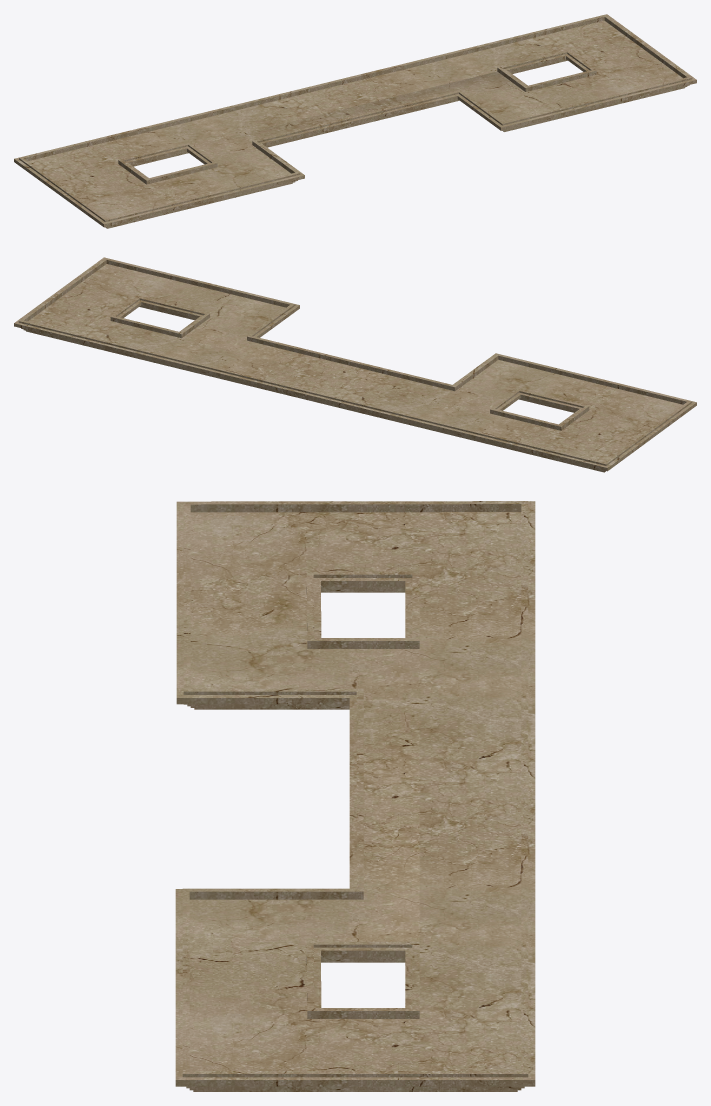
Rendered from pasted__stone_column_513.fbx.
The picture shows the model from 3 angles, top to bottom: view 1: azimuth 30°, elevation 25°; view 2: azimuth 150°, elevation 25°; view 3: azimuth 270°, elevation 25°; orthographic projection. The views are drawn at different scales.
Visible parts, largest first — view 1: pasted__stone_column_513; view 2: pasted__stone_column_513; view 3: pasted__stone_column_513.
Part boxes in pixels (left/top/right/bottom): pasted__stone_column_513: left=14, top=14, right=696, bottom=228; pasted__stone_column_513: left=14, top=257, right=696, bottom=472; pasted__stone_column_513: left=175, top=501, right=535, bottom=1091.
Bounding box in the file's own units: 1163 × 305 × 21.
